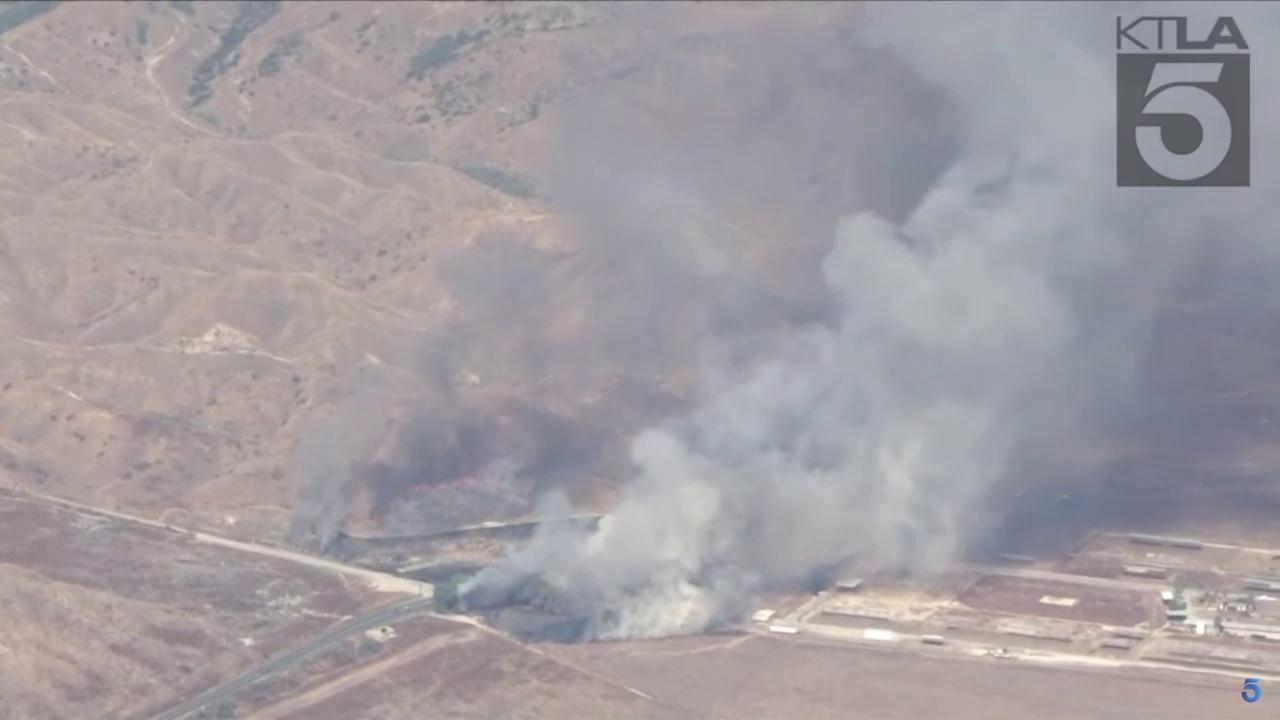smoke: (286, 0, 1280, 638)
